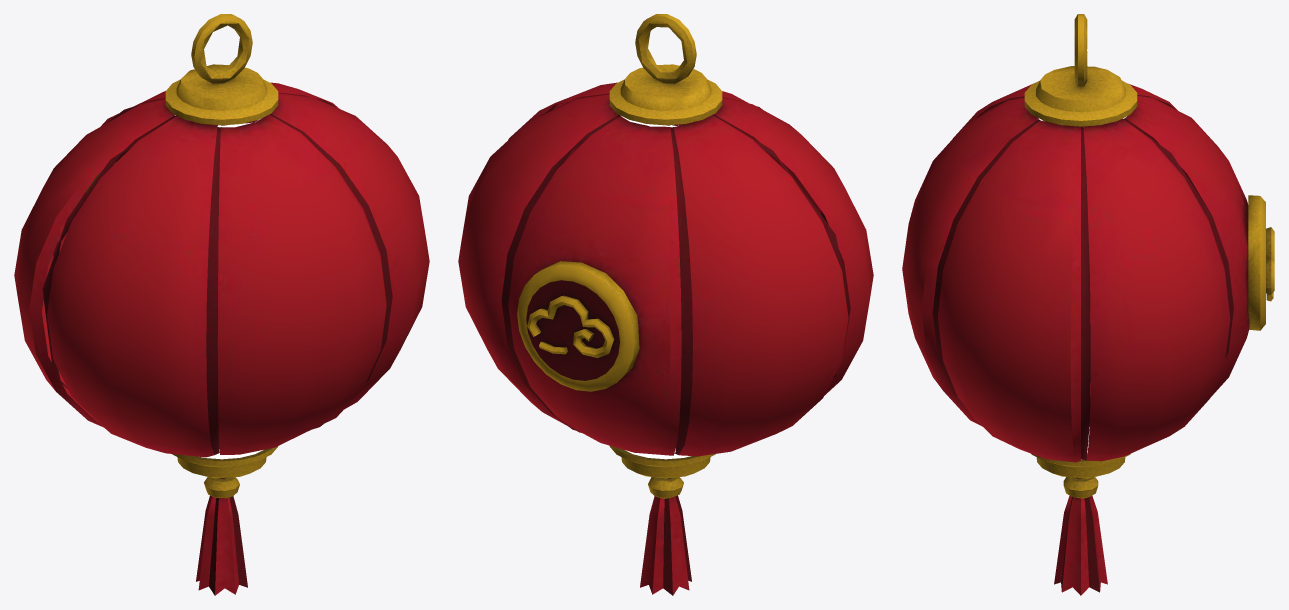
The picture shows the model from 3 angles, left to right: view 1: azimuth 30°, elevation 25°; view 2: azimuth 150°, elevation 25°; view 3: azimuth 270°, elevation 25°; orthographic projection.
Visible parts, largest first — view 1: Lacquer_paper_•_festive_red, Polished_gold_leaf, Recessed_crimson_ribs; view 2: Lacquer_paper_•_festive_red, Polished_gold_leaf, Recessed_crimson_ribs; view 3: Lacquer_paper_•_festive_red, Polished_gold_leaf, Recessed_crimson_ribs.
Boxes of the visible parts, x1,y1,x2,y2 form: Lacquer_paper_•_festive_red: [14, 82, 429, 595]; Polished_gold_leaf: [85, 14, 278, 498]; Recessed_crimson_ribs: [42, 93, 392, 595]; Lacquer_paper_•_festive_red: [458, 82, 873, 595]; Polished_gold_leaf: [517, 14, 722, 498]; Recessed_crimson_ribs: [501, 101, 850, 595]; Lacquer_paper_•_festive_red: [902, 83, 1249, 595]; Polished_gold_leaf: [1024, 14, 1274, 498]; Recessed_crimson_ribs: [932, 95, 1233, 592].
Bounding box in the file's own units: 0.6889 × 0.9987 × 0.594.
Materials: 4 (3 with a texture image).
